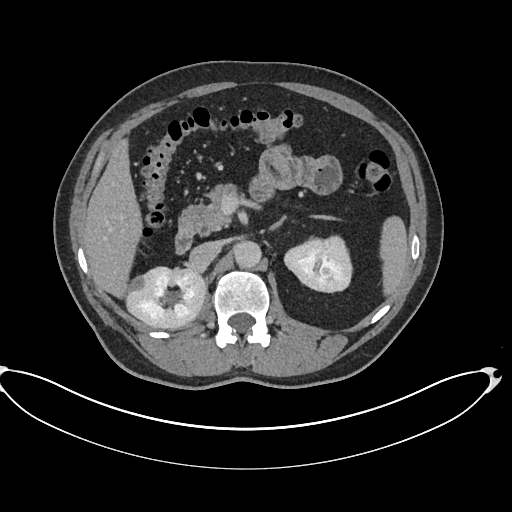Lesion: (127, 276, 146, 297)
